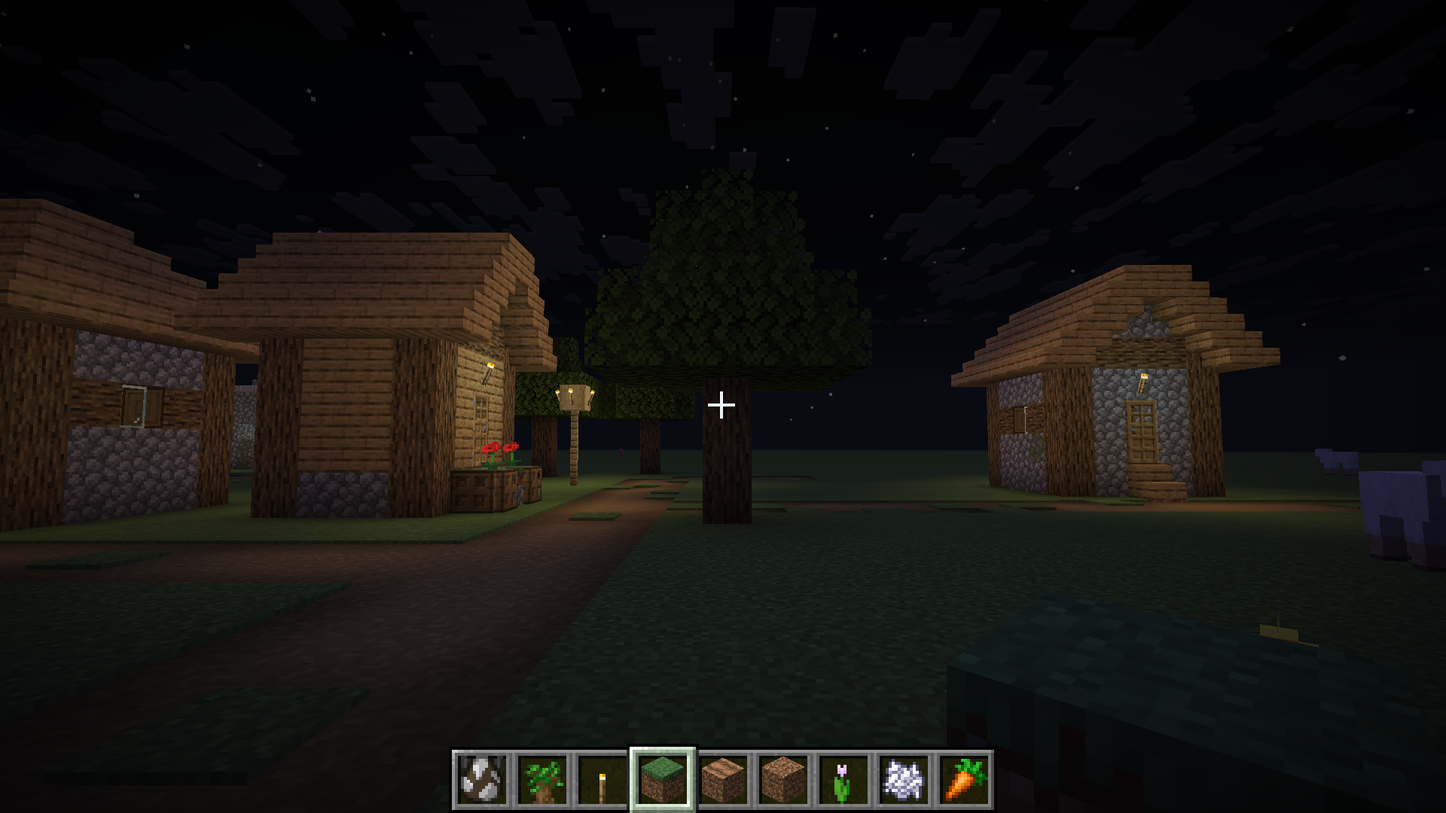Sheep: (1315, 449, 1445, 571)
Tree: (584, 170, 870, 523)
